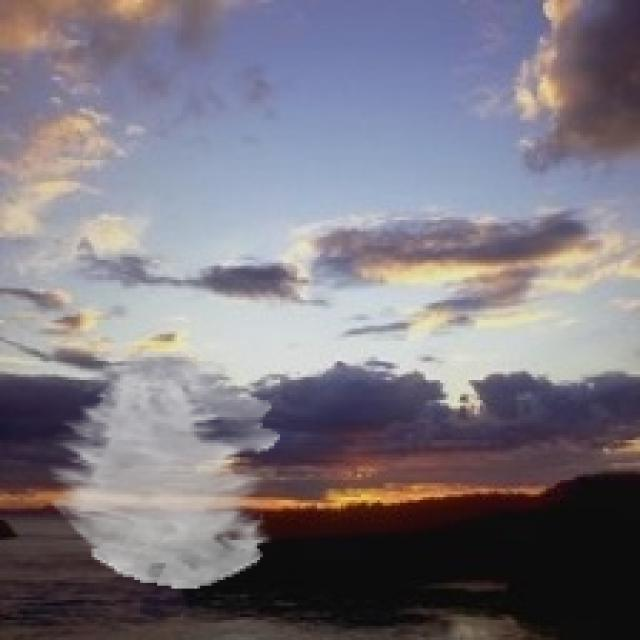smoke: (49, 352, 280, 588)
